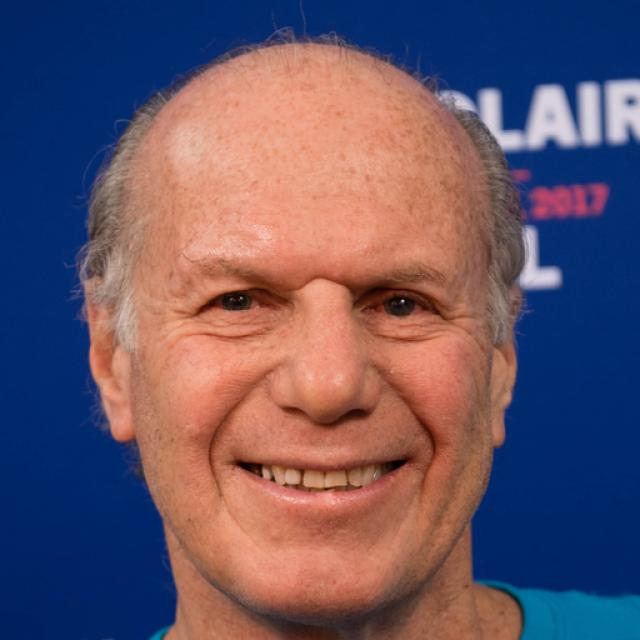Pigmentation: (355, 115, 483, 255)
